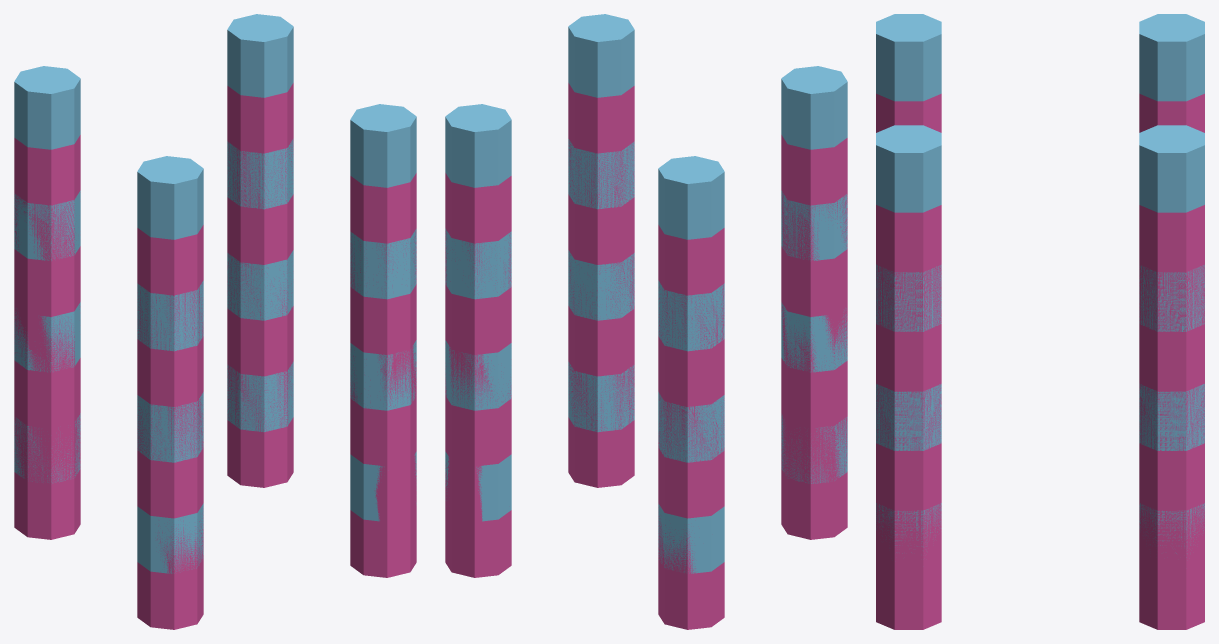
File: Playground Supports.fbx
3 views of the same model, side by side, from view 1: azimuth 30°, elevation 25°; view 2: azimuth 150°, elevation 25°; view 3: azimuth 270°, elevation 25° (orthographic). The views are drawn at different scales.
Visible parts, largest first — view 1: Playground Support 4, Playground Support 3, Playground Support 2, Playground Support 1; view 2: Playground Support 4, Playground Support 2, Playground Support 3, Playground Support 1; view 3: Playground Support 4, Playground Support 2, Playground Support 3, Playground Support 1.
Part boxes in pixels (x1,y1,x2,y2): Playground Support 4: (14,14,416,629); Playground Support 3: (14,139,416,629); Playground Support 2: (14,250,416,628); Playground Support 1: (14,361,416,629); Playground Support 4: (445,14,847,628); Playground Support 2: (445,250,847,629); Playground Support 3: (445,139,847,629); Playground Support 1: (445,362,847,629); Playground Support 4: (876,14,1204,629); Playground Support 2: (876,384,1204,629); Playground Support 3: (876,264,1204,629); Playground Support 1: (876,503,1204,629).
Bounding box in the file's own units: 500 × 800 × 500.
